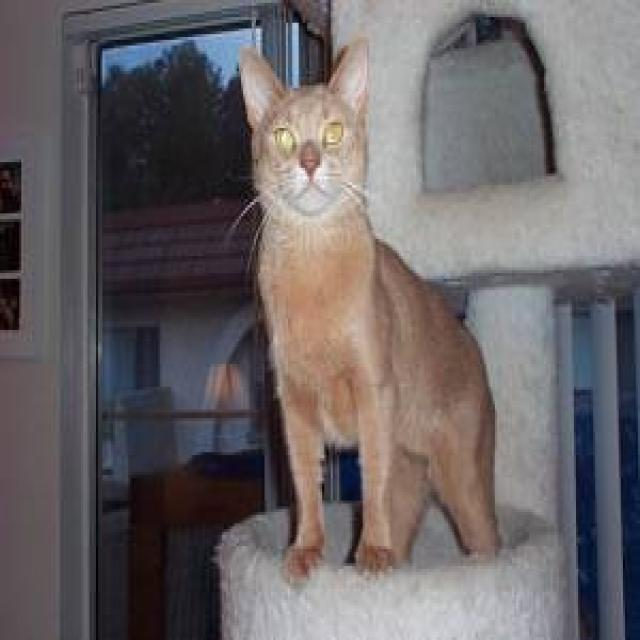Abyssinian: (237, 30, 372, 226)
